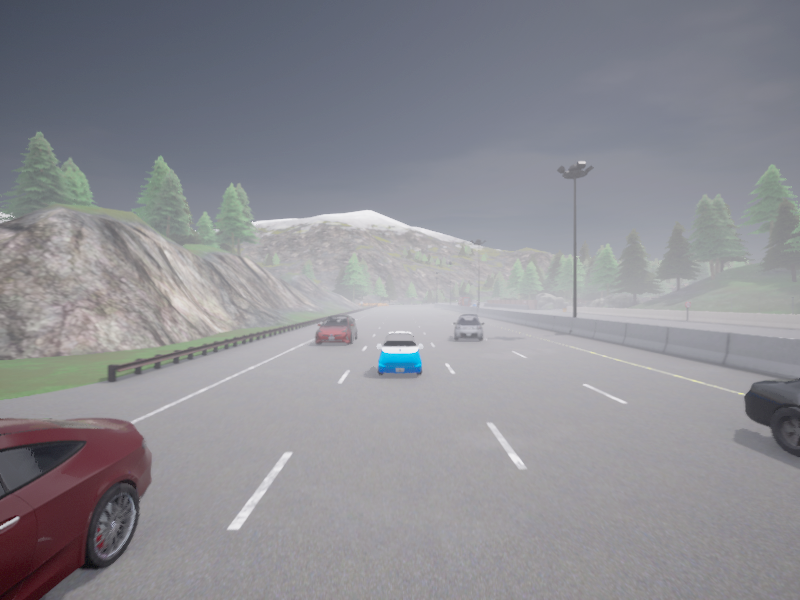vehicle: (0, 418, 151, 599), (744, 378, 799, 457), (377, 331, 422, 376), (315, 315, 356, 344), (453, 314, 484, 341), (457, 296, 470, 306), (473, 300, 479, 304), (472, 303, 476, 306)
